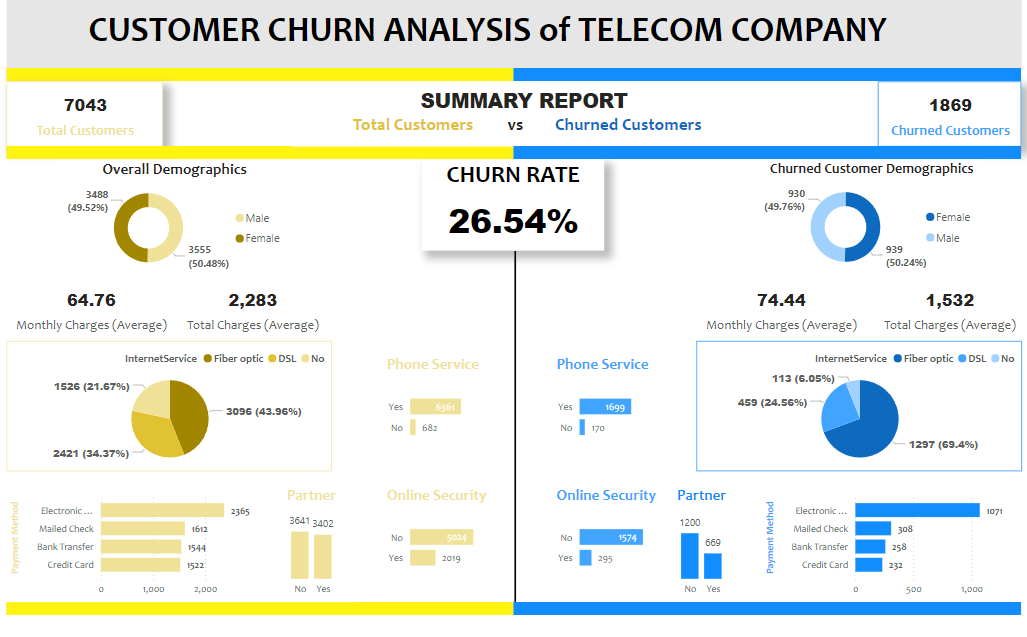

What the dashboard file says about the page in this screenshot:
{"tool":"powerbi","page":{"name":"Summary Report","canvas":[1280,820],"ordinal":0},"visuals":[{"type":"shape","box":[16,0,1248,96],"z":0},{"type":"shape","box":[16,96,624,16],"z":1000},{"type":"textbox","box":[112,16,1056,64],"z":2000},{"type":"card","fields":{"Values":["Count(Customer Churn.customerID)"]},"box":[16,112,192,80],"z":3000},{"type":"card","fields":{"Values":["Customer Churn.Churned Customers"]},"box":[1088,112,176,80],"z":4000},{"type":"card","title":"CHURN RATE","fields":{"Values":["Customer Churn.Churn Rate"]},"box":[528,208,224,112],"z":5000},{"type":"shape","box":[16,752,624,16],"z":6000},{"type":"donutChart","title":"Overall Demographics","fields":{"Category":["Customer Churn.gender"],"Y":["CountNonNull(Customer Churn.gender)"]},"box":[80,208,288,144],"z":7000},{"type":"donutChart","title":"Churned Customer Demographics","fields":{"Category":["Customer Churn.gender"],"Y":["CountNonNull(Customer Churn.gender)"]},"box":[944,208,272,144],"z":8000},{"type":"shape","box":[16,192,624,16],"z":9000},{"type":"card","fields":{"Values":["Avg(Customer Churn.MonthlyCharges)"]},"box":[16,352.3,208,80],"z":10000},{"type":"card","fields":{"Values":["Avg(Customer Churn.TotalCharges)"]},"box":[224,352,192,80],"z":11000},{"type":"card","fields":{"Values":["Avg(Customer Churn.MonthlyCharges)"]},"box":[864,352,208,80],"z":12000},{"type":"card","fields":{"Values":["Avg(Customer Churn.TotalCharges)"]},"box":[1088,352.3,176,80],"z":13000},{"type":"pieChart","fields":{"Category":["Customer Churn.InternetService"],"Y":["CountNonNull(Customer Churn.InternetService)"]},"box":[16,432,400,160],"z":14000},{"type":"pieChart","fields":{"Category":["Customer Churn.InternetService"],"Y":["CountNonNull(Customer Churn.InternetService)"]},"box":[864,432,400,160],"z":15000},{"type":"clusteredBarChart","fields":{"Category":["Customer Churn.PaymentMethod"],"Y":["CountNonNull(Customer Churn.PaymentMethod)"]},"box":[16,608,320,144],"z":16000},{"type":"clusteredBarChart","fields":{"Category":["Customer Churn.PaymentMethod"],"Y":["CountNonNull(Customer Churn.PaymentMethod)"]},"box":[944,608,320,144],"z":17000},{"type":"textbox","box":[368,112,576,80],"z":18000},{"type":"shape","box":[608,320,67,432],"z":19000},{"type":"clusteredColumnChart","title":"Partner","fields":{"Category":["Customer Churn.Partner"],"Y":["CountNonNull(Customer Churn.Partner)"]},"box":[336,608,112,144],"z":20000},{"type":"clusteredColumnChart","title":"Partner","fields":{"Category":["Customer Churn.Partner"],"Y":["CountNonNull(Customer Churn.Partner)"]},"box":[816,608,112,144],"z":21000},{"type":"clusteredBarChart","title":"Phone Service","fields":{"Category":["Customer Churn.PhoneService"],"Y":["CountNonNull(Customer Churn.PhoneService)"]},"box":[480,448,128,128],"z":22000},{"type":"clusteredBarChart","title":"Phone Service","fields":{"Category":["Customer Churn.PhoneService"],"Y":["CountNonNull(Customer Churn.PhoneService)"]},"box":[688,448,128,128],"z":23000},{"type":"clusteredBarChart","title":"Online Security","fields":{"Category":["Customer Churn.OnlineSecurity"],"Y":["CountNonNull(Customer Churn.OnlineSecurity)"]},"box":[480,608,144,128],"z":24000},{"type":"clusteredBarChart","title":"Online Security","fields":{"Category":["Customer Churn.OnlineSecurity"],"Y":["CountNonNull(Customer Churn.OnlineSecurity)"]},"box":[688,608,144,128],"z":25000},{"type":"shape","box":[640,96,624,16],"z":26000},{"type":"shape","box":[640,752,624,16],"z":27000},{"type":"shape","box":[640,192,624,16],"z":28000}]}

Visuals, with their boxes on the page's 1280x820 design canvas (x1, y1, x2, y2). These are canvas units, not pixel positions in the 1027x637 screenshot, which may show the page scaled, cropped or inside an application window:
shape: <region>16, 0, 1264, 96</region>
shape: <region>16, 96, 640, 112</region>
textbox: <region>112, 16, 1168, 80</region>
card - Count(Customer Churn.customerID): <region>16, 112, 208, 192</region>
card - Customer Churn.Churned Customers: <region>1088, 112, 1264, 192</region>
"CHURN RATE" card: <region>528, 208, 752, 320</region>
shape: <region>16, 752, 640, 768</region>
"Overall Demographics" donutChart: <region>80, 208, 368, 352</region>
"Churned Customer Demographics" donutChart: <region>944, 208, 1216, 352</region>
shape: <region>16, 192, 640, 208</region>
card - Avg(Customer Churn.MonthlyCharges): <region>16, 352, 224, 432</region>
card - Avg(Customer Churn.TotalCharges): <region>224, 352, 416, 432</region>
card - Avg(Customer Churn.MonthlyCharges): <region>864, 352, 1072, 432</region>
card - Avg(Customer Churn.TotalCharges): <region>1088, 352, 1264, 432</region>
pieChart - Customer Churn.InternetService x CountNonNull(Customer Churn.InternetService): <region>16, 432, 416, 592</region>
pieChart - Customer Churn.InternetService x CountNonNull(Customer Churn.InternetService): <region>864, 432, 1264, 592</region>
clusteredBarChart - Customer Churn.PaymentMethod x CountNonNull(Customer Churn.PaymentMethod): <region>16, 608, 336, 752</region>
clusteredBarChart - Customer Churn.PaymentMethod x CountNonNull(Customer Churn.PaymentMethod): <region>944, 608, 1264, 752</region>
textbox: <region>368, 112, 944, 192</region>
shape: <region>608, 320, 675, 752</region>
"Partner" clusteredColumnChart: <region>336, 608, 448, 752</region>
"Partner" clusteredColumnChart: <region>816, 608, 928, 752</region>
"Phone Service" clusteredBarChart: <region>480, 448, 608, 576</region>
"Phone Service" clusteredBarChart: <region>688, 448, 816, 576</region>
"Online Security" clusteredBarChart: <region>480, 608, 624, 736</region>
"Online Security" clusteredBarChart: <region>688, 608, 832, 736</region>
shape: <region>640, 96, 1264, 112</region>
shape: <region>640, 752, 1264, 768</region>
shape: <region>640, 192, 1264, 208</region>
